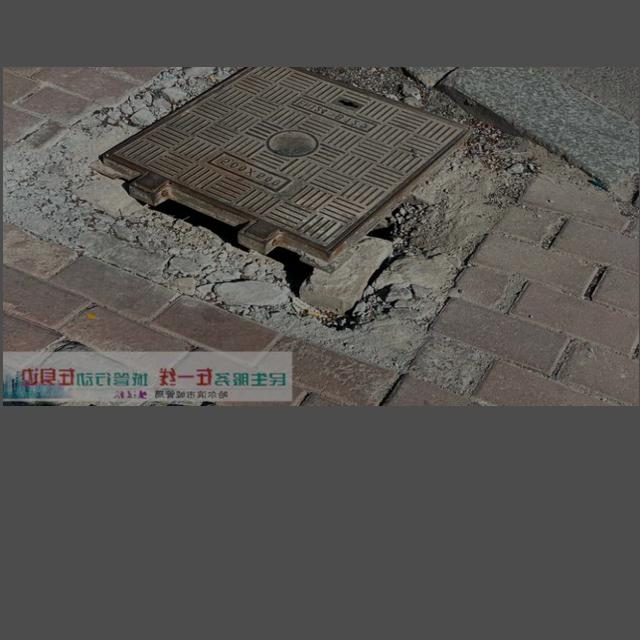circle: (9, 72, 536, 337)
